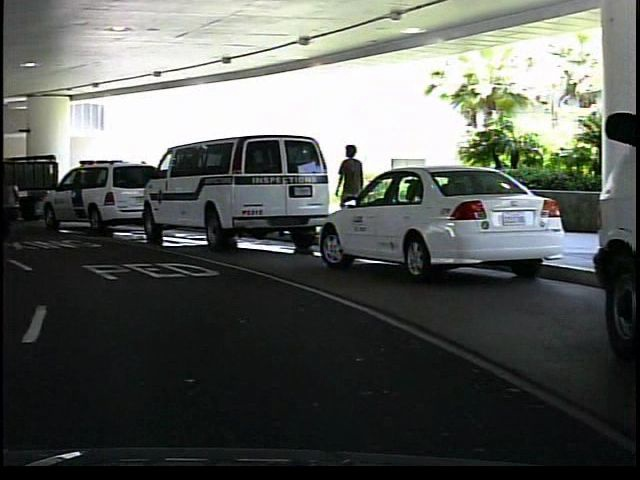person: (330, 141, 366, 238)
